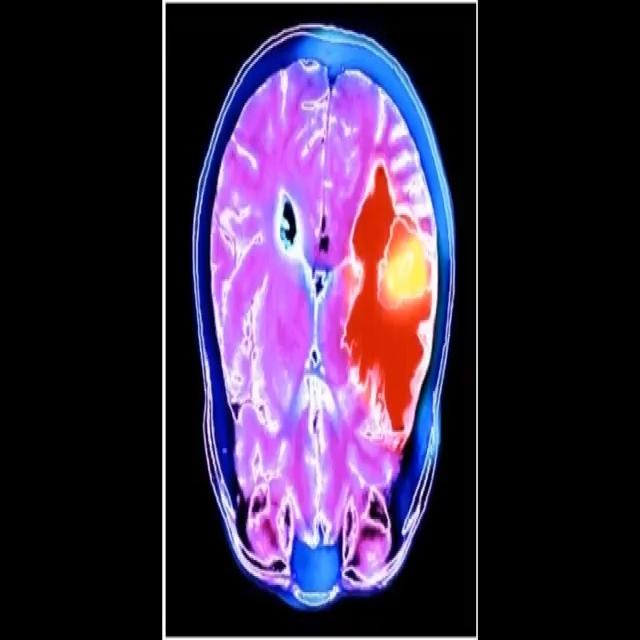tumor: (346, 162, 449, 349)
